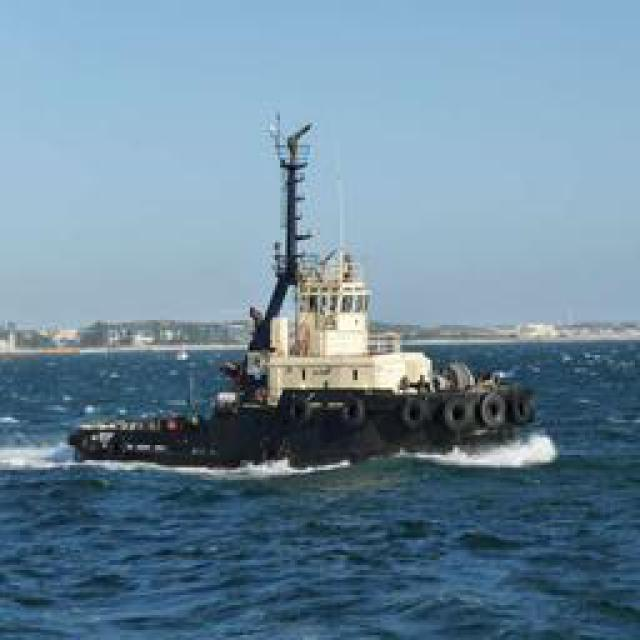Ship: (75, 104, 570, 474)
